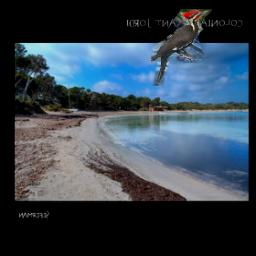Woodpecker: (150, 9, 211, 86)
